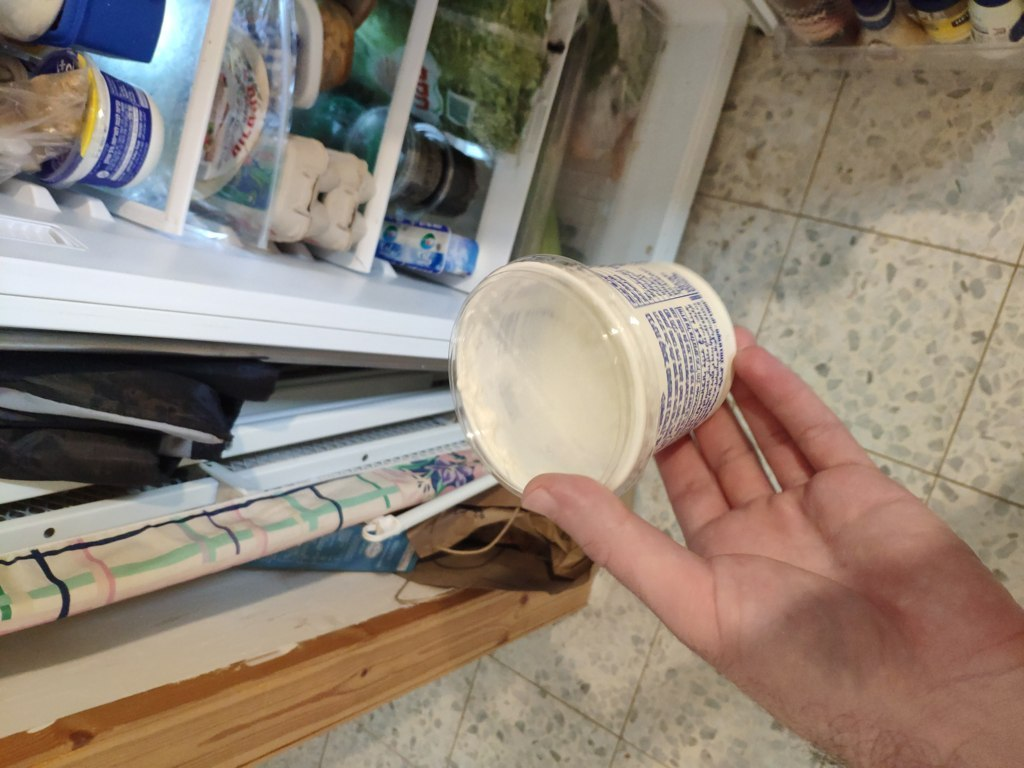Cotage: (488, 272, 721, 506)
